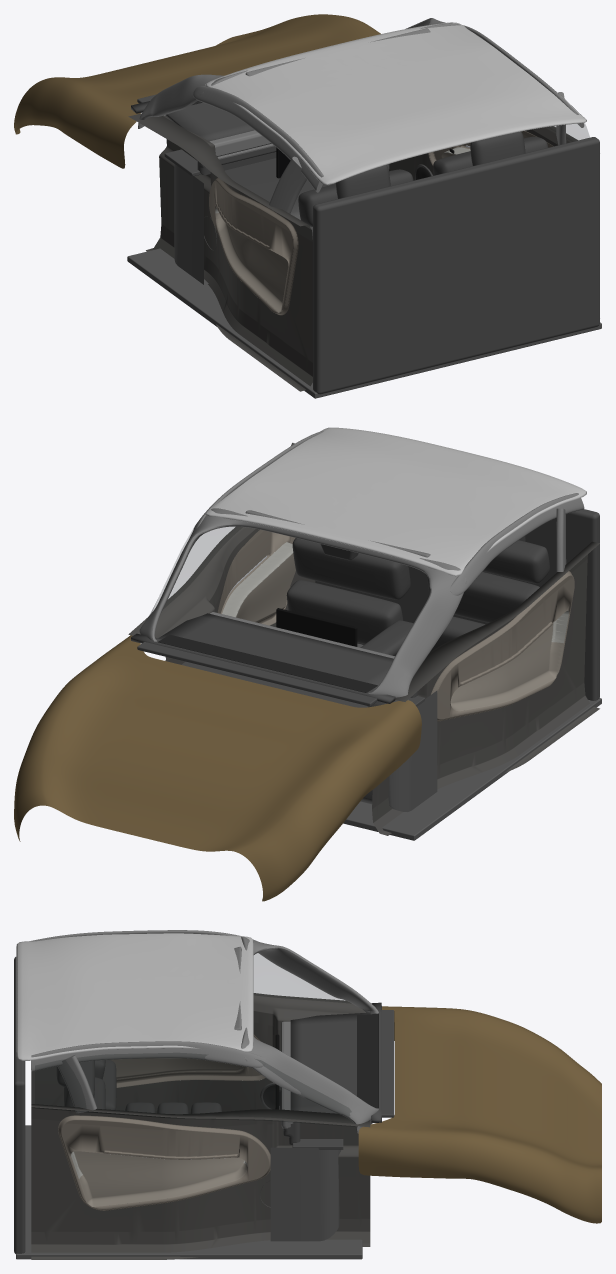
File: cabin.a06ddcfe.glb
3 views of the same model, one above another, from view 1: azimuth 30°, elevation 25°; view 2: azimuth 150°, elevation 25°; view 3: azimuth 270°, elevation 25° (orthographic). The views are drawn at different scales.
Parts seen in each view (by area): view 1: Cabin, SeatBackLeft, SeatBackRight; view 2: Cabin, SeatBackRight, SeatBackLeft, Glass; view 3: Cabin, Glass, SeatBackRight, SeatBackLeft.
Part boxes in pixels (box(x1,y1,x2,y2)): Cabin: box(14, 14, 601, 398); SeatBackLeft: box(298, 165, 413, 239); SeatBackRight: box(433, 131, 548, 175); Cabin: box(14, 427, 601, 901); SeatBackRight: box(286, 538, 410, 644); SeatBackLeft: box(427, 536, 549, 651); Glass: box(148, 524, 242, 617); Cabin: box(14, 930, 601, 1259); Glass: box(35, 953, 355, 1126); SeatBackRight: box(56, 1060, 105, 1109); SeatBackLeft: box(95, 1059, 116, 1110).
Size of the model in its own units: 1.75 by 1.2 by 3.07.
